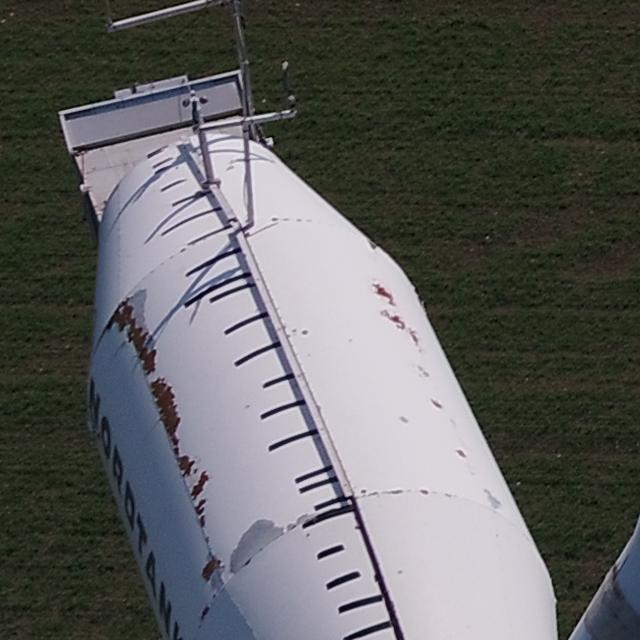damage: (100, 289, 157, 379), (142, 377, 186, 457), (376, 308, 406, 332), (187, 470, 210, 501), (369, 279, 398, 303), (173, 454, 197, 477), (193, 498, 207, 528), (408, 324, 421, 349), (418, 362, 434, 381), (428, 395, 445, 411), (452, 446, 468, 457)
